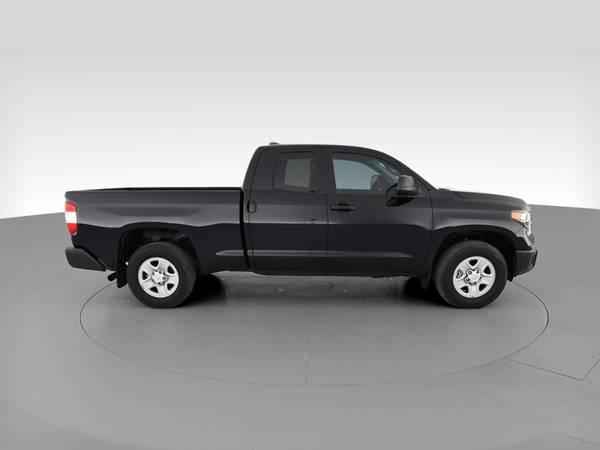Front_Bumper: (509, 230, 537, 279)
Front_Fender: (422, 188, 527, 268)
Front_Right_Door: (328, 191, 433, 273)
Front_Right_Window: (324, 151, 427, 195)
Rear_Bumper: (64, 246, 108, 272)
Rear_Fender: (66, 187, 249, 274)
Rear_Right_Door: (241, 189, 328, 276)
Rear_Right_Window: (254, 151, 327, 191)
Right_Headlight: (512, 212, 534, 241)
Right_Taillight: (64, 201, 78, 237)
Roof: (241, 143, 433, 191)
Wheel: (437, 239, 512, 310), (125, 245, 197, 314)
